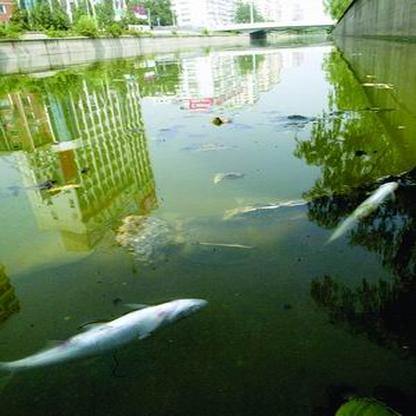deceased fish: (10, 293, 212, 375), (318, 177, 400, 256)
